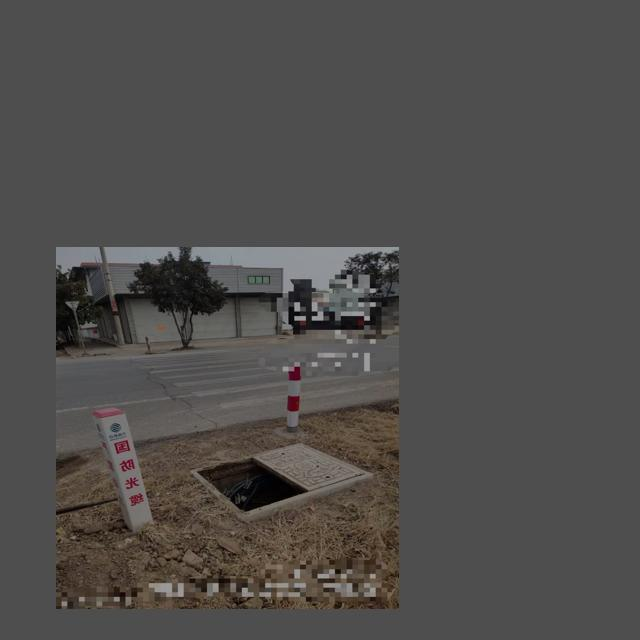lose: (181, 435, 334, 519)
